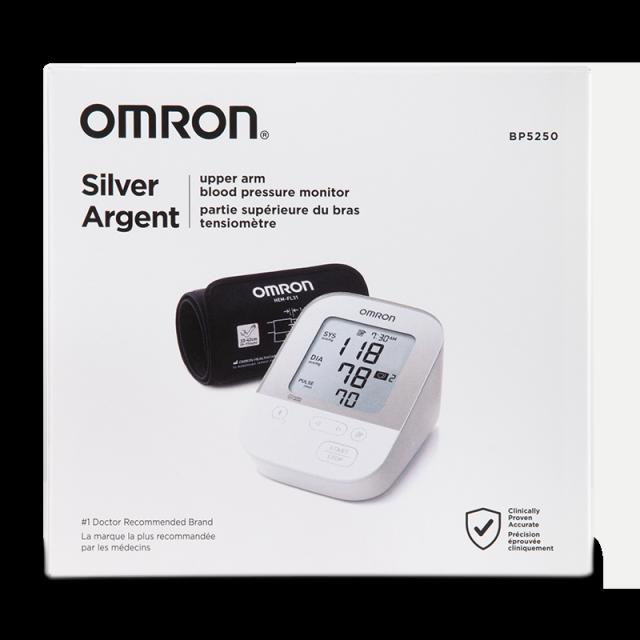dia: (327, 356, 377, 396)
pul: (323, 383, 365, 415)
ssd: (285, 296, 417, 430)
sys: (329, 331, 390, 373)
